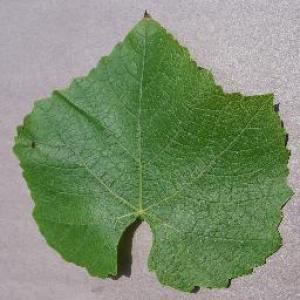Folha: (12, 8, 294, 293)
